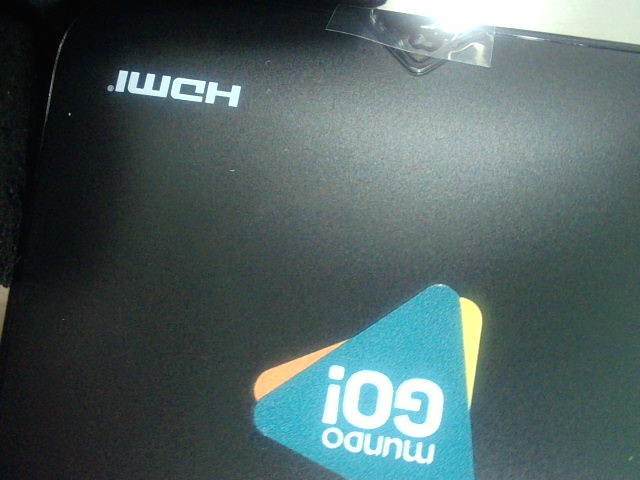AP_IPGMundoGO: (235, 283, 514, 476)
